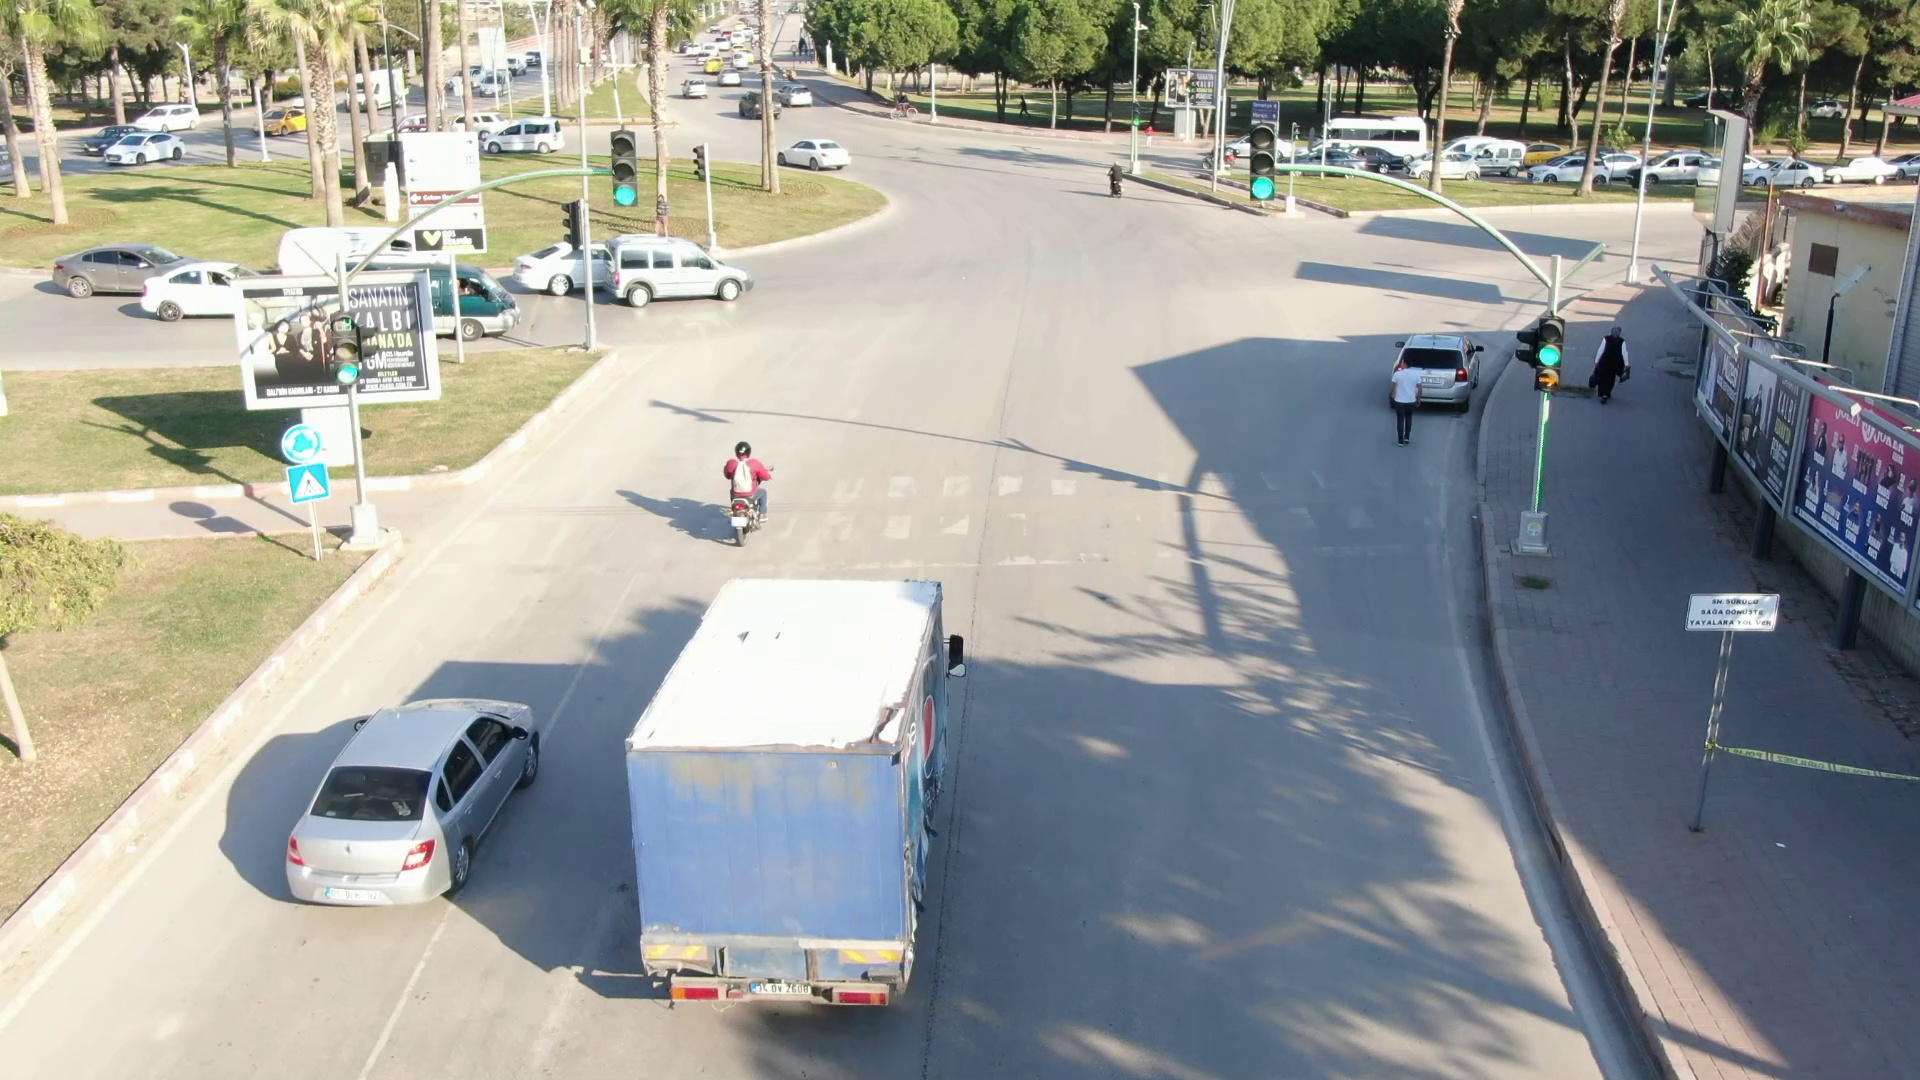car: (262, 621, 567, 934), (41, 231, 214, 314), (601, 227, 760, 315), (1518, 150, 1624, 194), (479, 114, 575, 160), (774, 127, 858, 174), (101, 126, 205, 164), (777, 79, 822, 112), (677, 75, 712, 101), (714, 64, 748, 88)
person: (708, 427, 800, 526), (1576, 306, 1639, 421), (1383, 345, 1443, 451)
